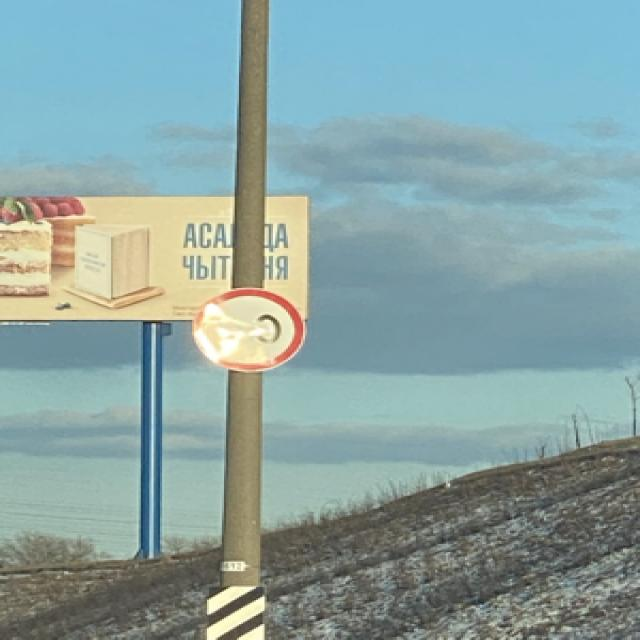speedlimit: (194, 286, 303, 368)
